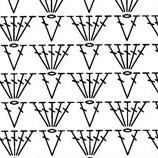enseble_chain: (120, 96, 157, 135), (122, 39, 157, 77), (46, 40, 81, 77), (7, 69, 42, 105), (82, 69, 117, 104), (82, 125, 119, 158), (83, 12, 117, 47), (7, 125, 43, 158), (100, 37, 131, 75), (47, 98, 80, 133), (26, 39, 57, 75), (102, 96, 131, 132), (117, 70, 148, 103), (27, 97, 56, 132), (117, 127, 149, 158), (65, 125, 95, 158), (3, 42, 33, 75), (118, 13, 147, 46), (43, 127, 73, 158), (43, 71, 72, 103), (44, 14, 72, 46), (67, 12, 93, 45), (82, 43, 109, 74), (4, 101, 31, 131), (83, 100, 109, 131), (110, 13, 134, 45), (0, 70, 19, 101), (0, 14, 19, 43), (9, 15, 25, 42), (120, 44, 136, 70), (123, 0, 135, 13)
fan: (75, 127, 96, 156), (0, 43, 20, 73), (2, 129, 20, 158), (6, 72, 23, 100), (7, 15, 24, 42), (82, 15, 98, 41)
